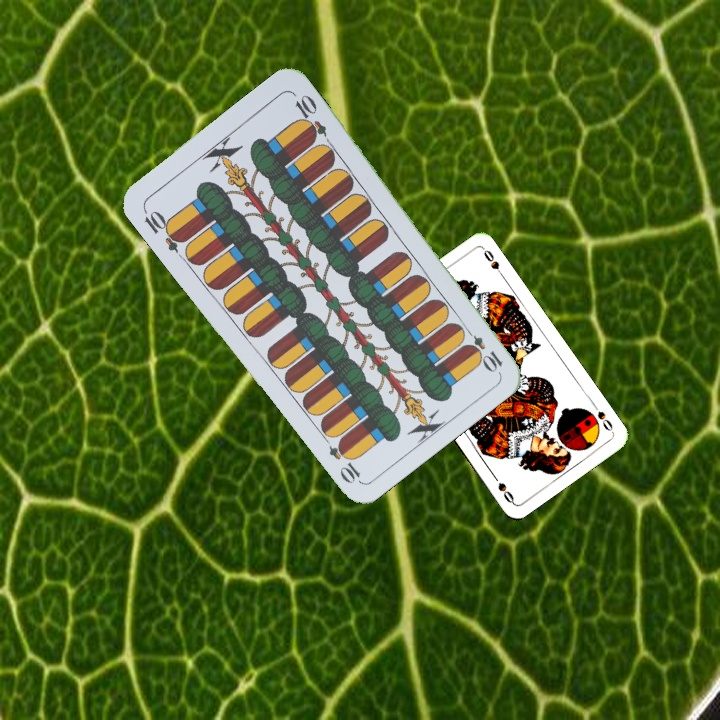E10: (139, 205, 188, 255), (459, 323, 505, 374)
SO: (589, 399, 616, 435)
